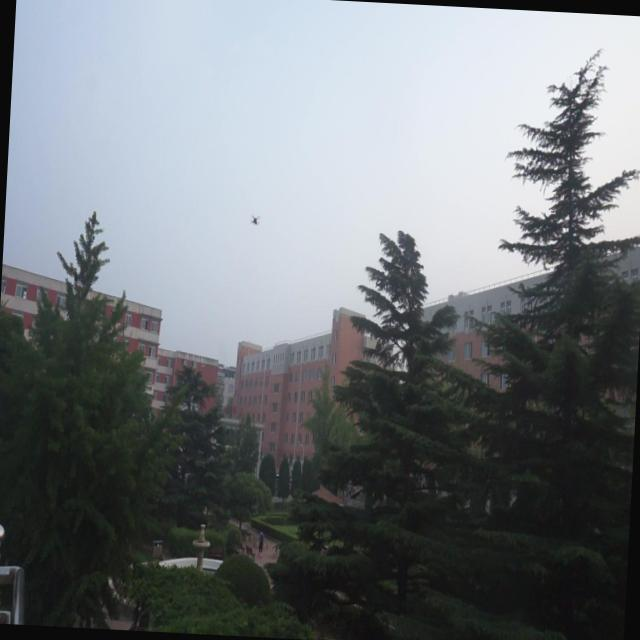drone: (246, 208, 264, 233)
